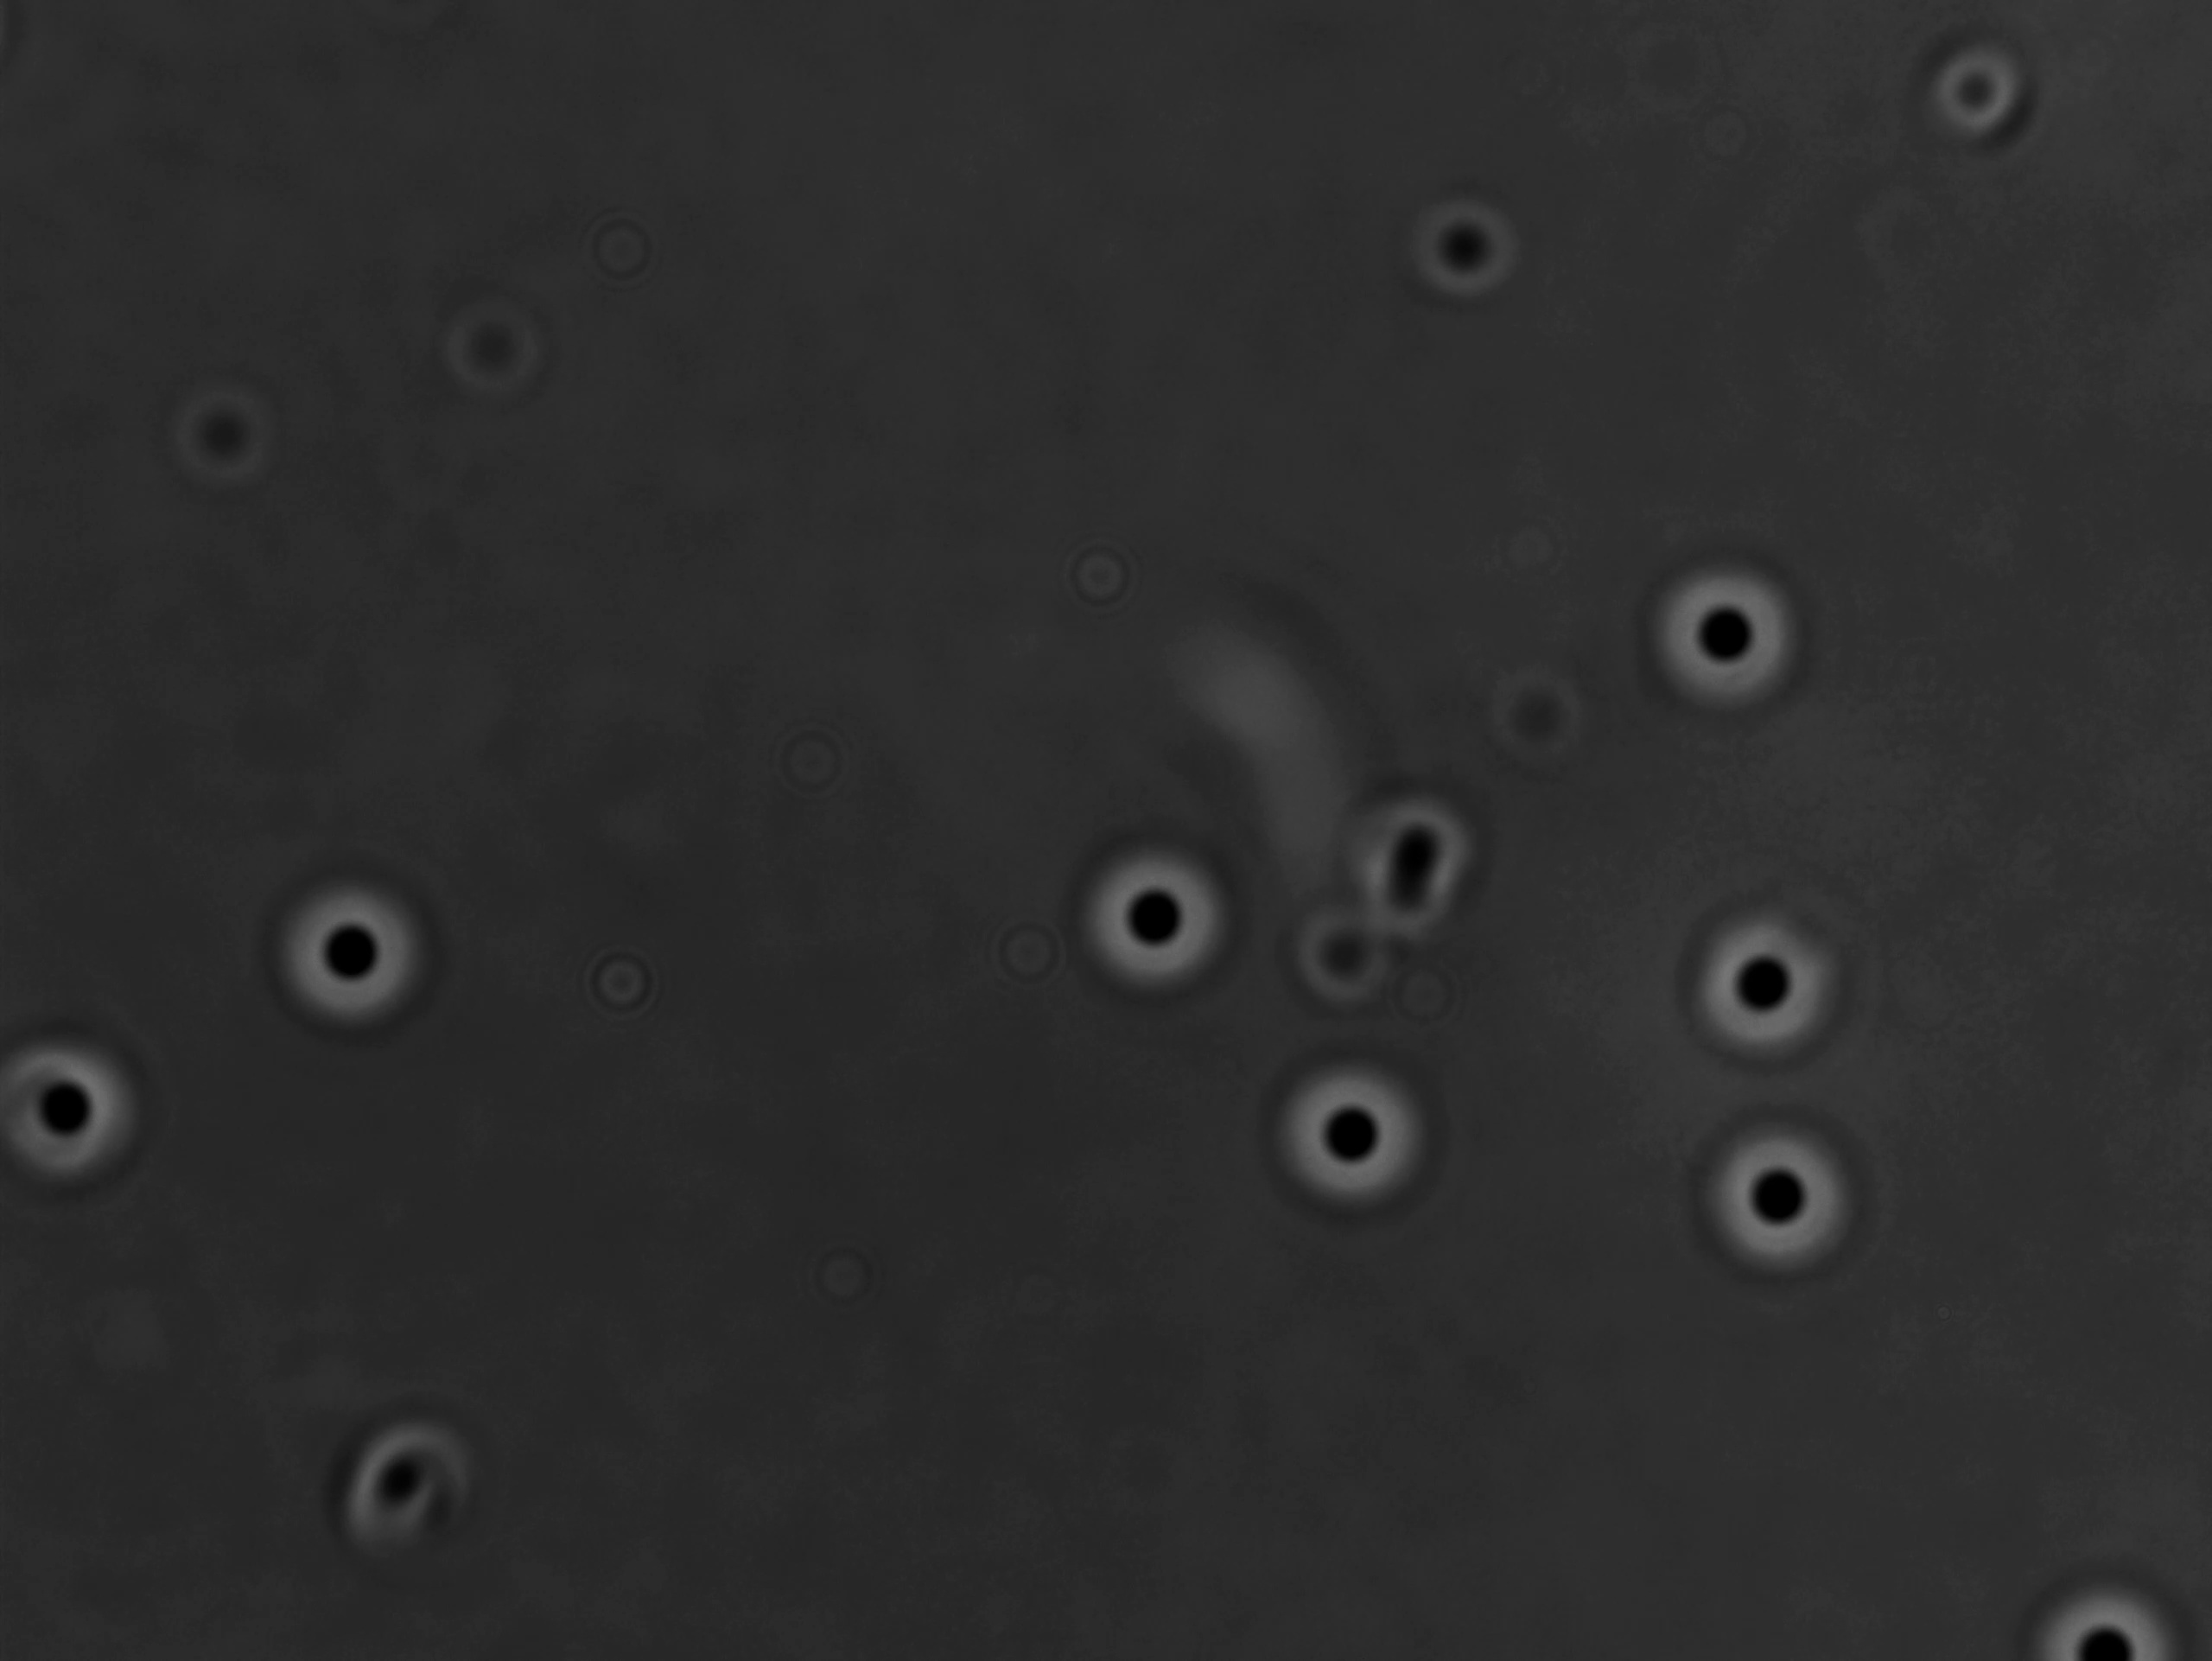depth:-40: (1628, 550, 1802, 726), (265, 872, 433, 1047), (1075, 834, 1235, 998), (1685, 902, 1847, 1063), (1265, 1057, 1423, 1214), (1697, 1124, 1858, 1277)
